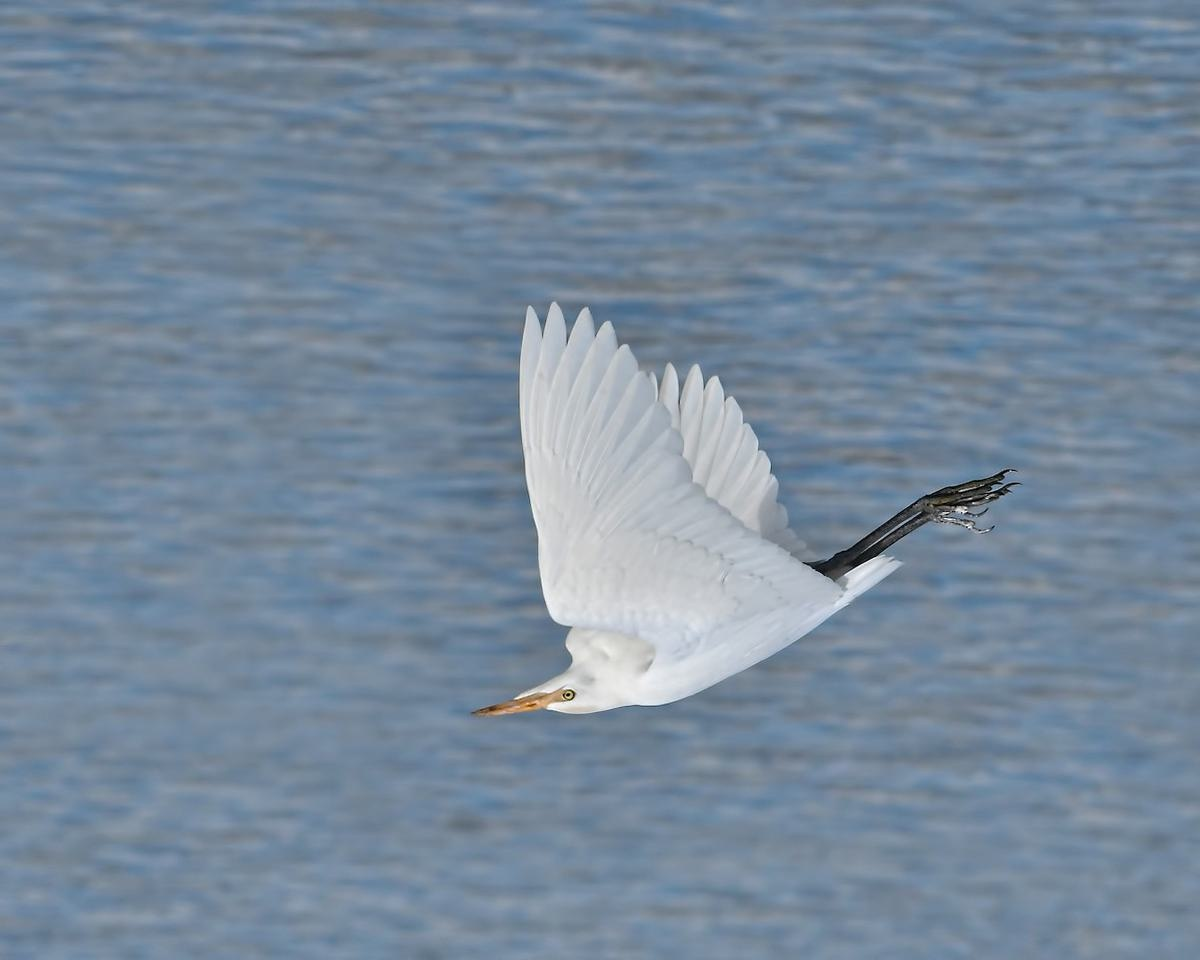egret: (464, 304, 1024, 777)
